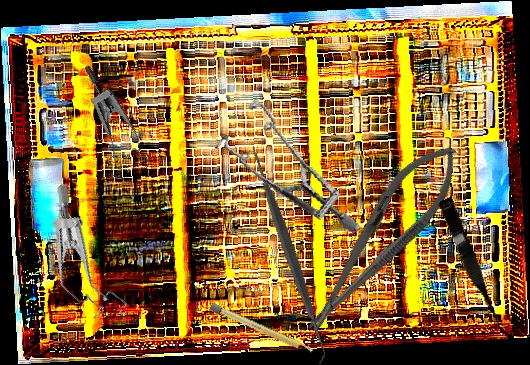Micro Scissor: (435, 196, 506, 332)
Needle Holder: (288, 130, 475, 347)
Scalpel Handle: (209, 302, 315, 356)
Spatula Surgical: (174, 137, 404, 365)
Speculum: (205, 79, 363, 262), (8, 181, 164, 334), (46, 63, 166, 189)
